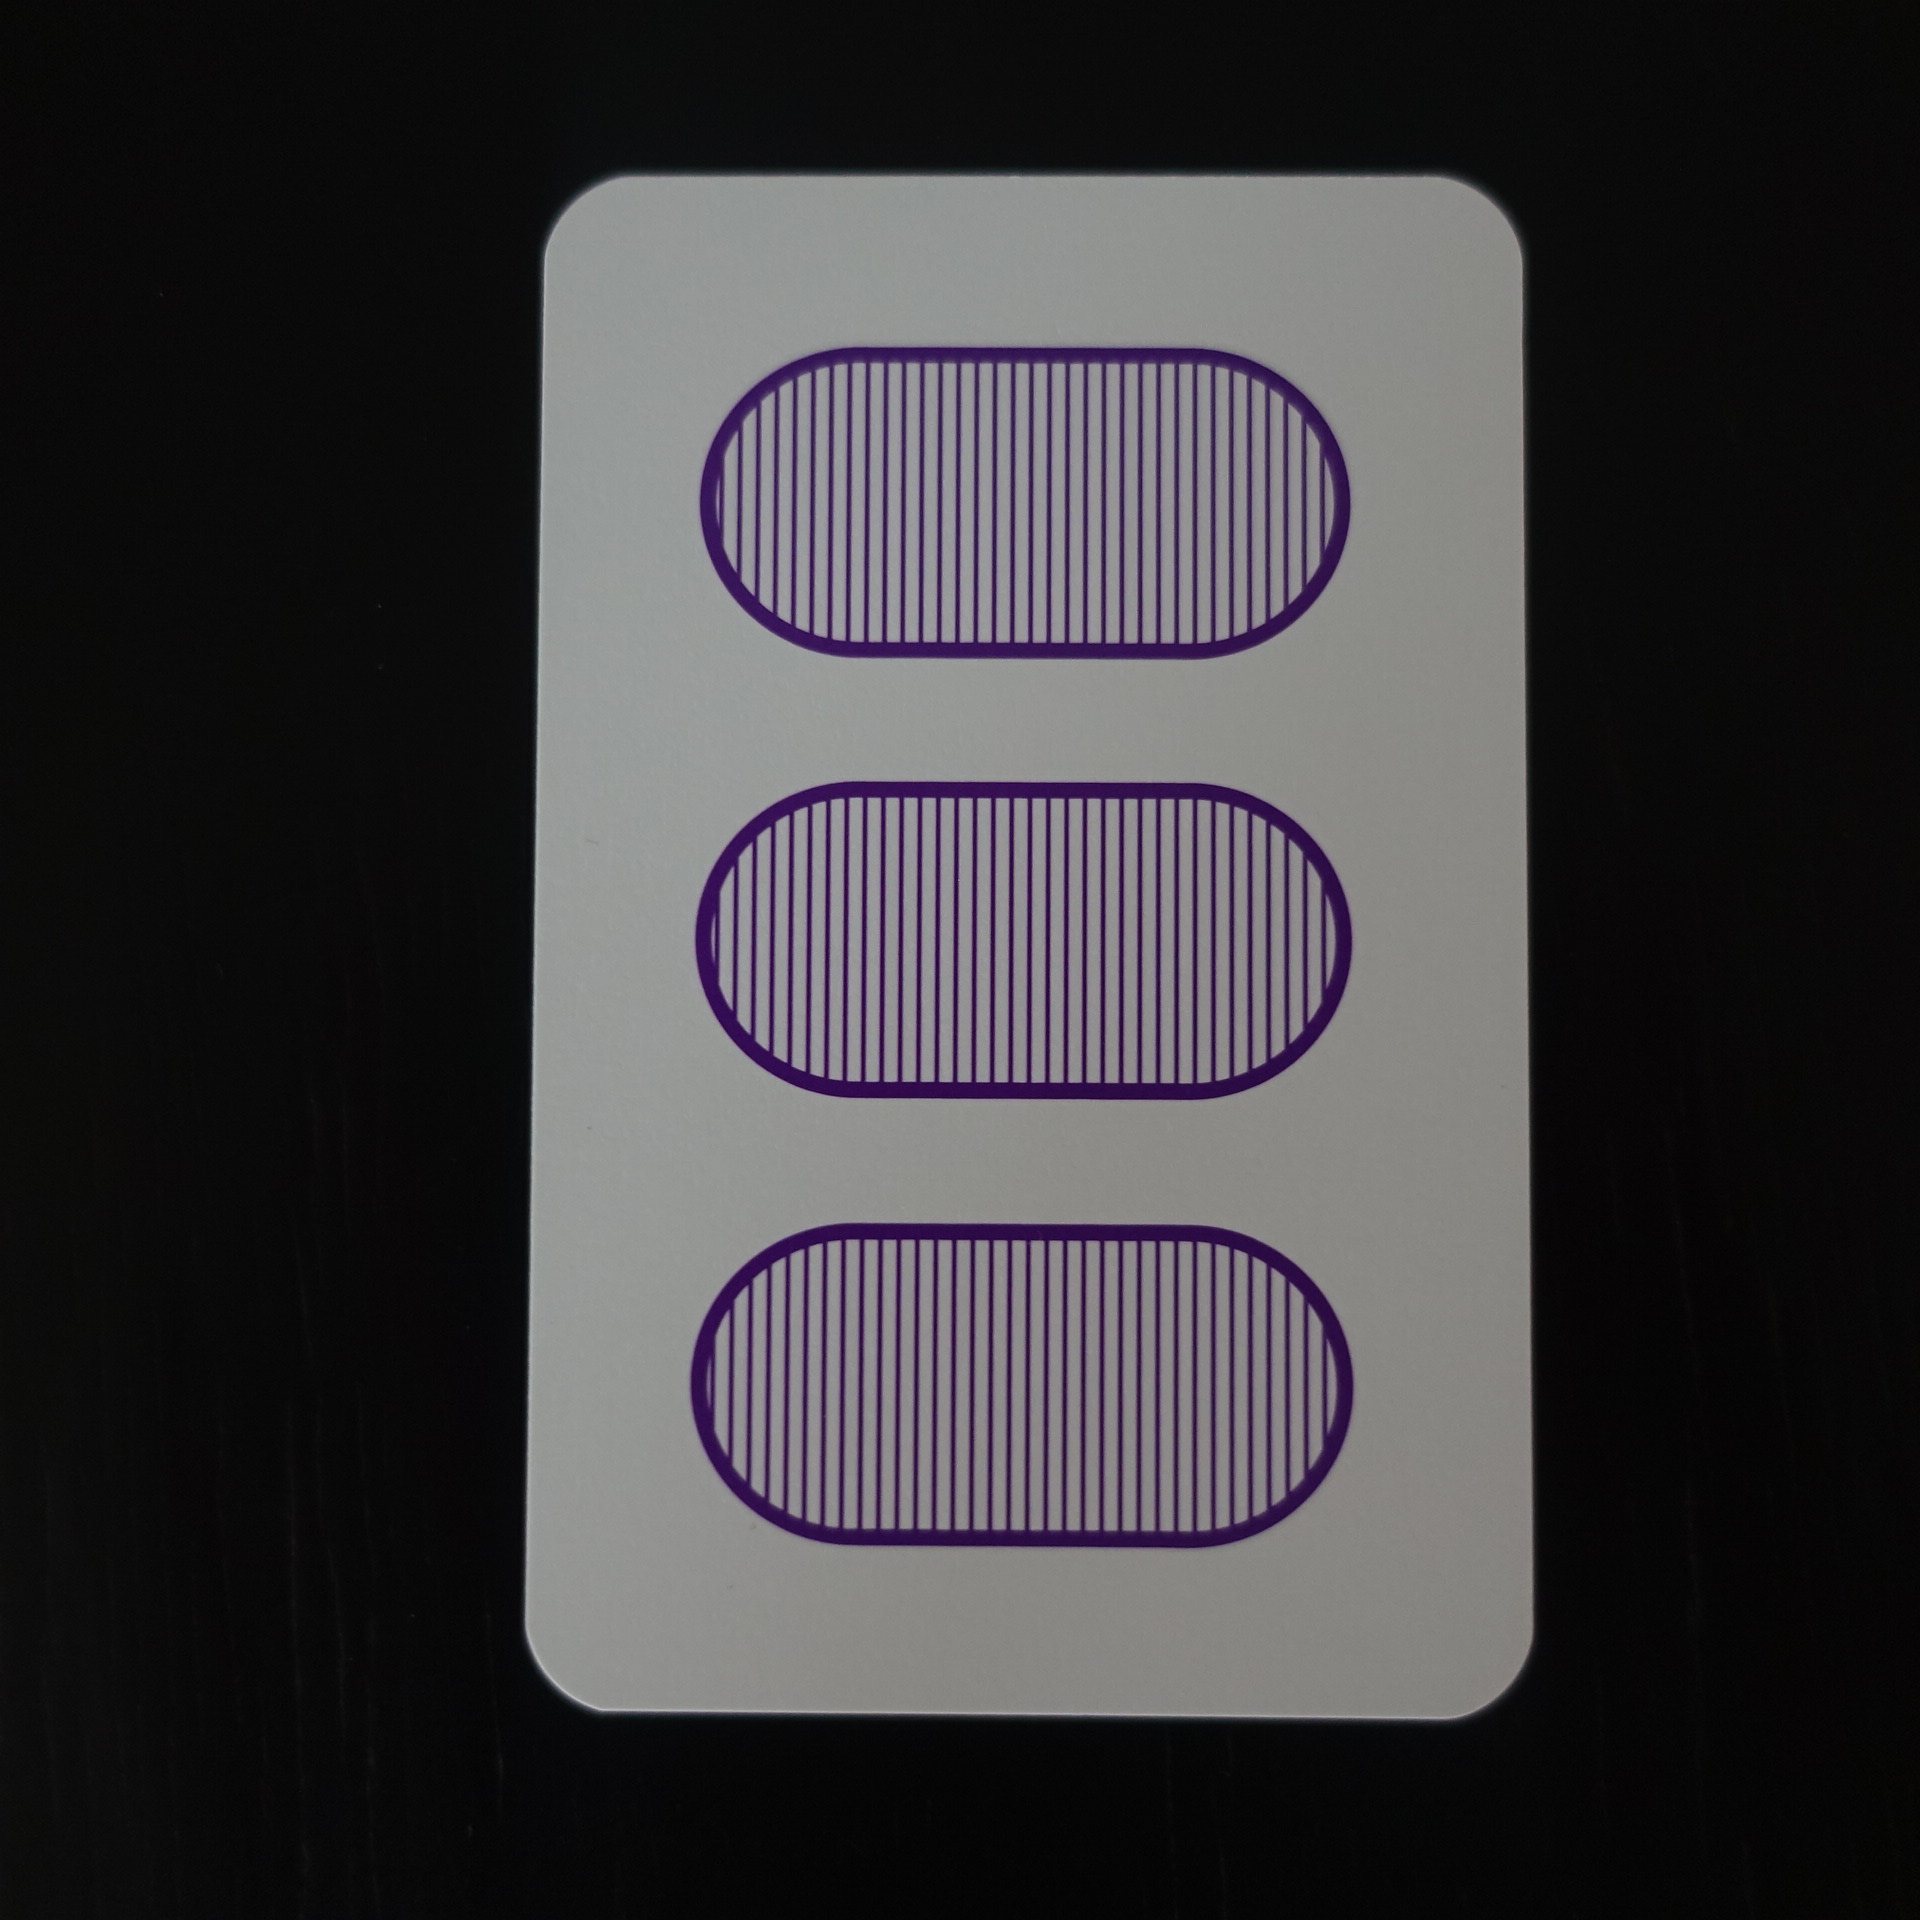c-2-f-d-r: (499, 142, 1561, 1762)
